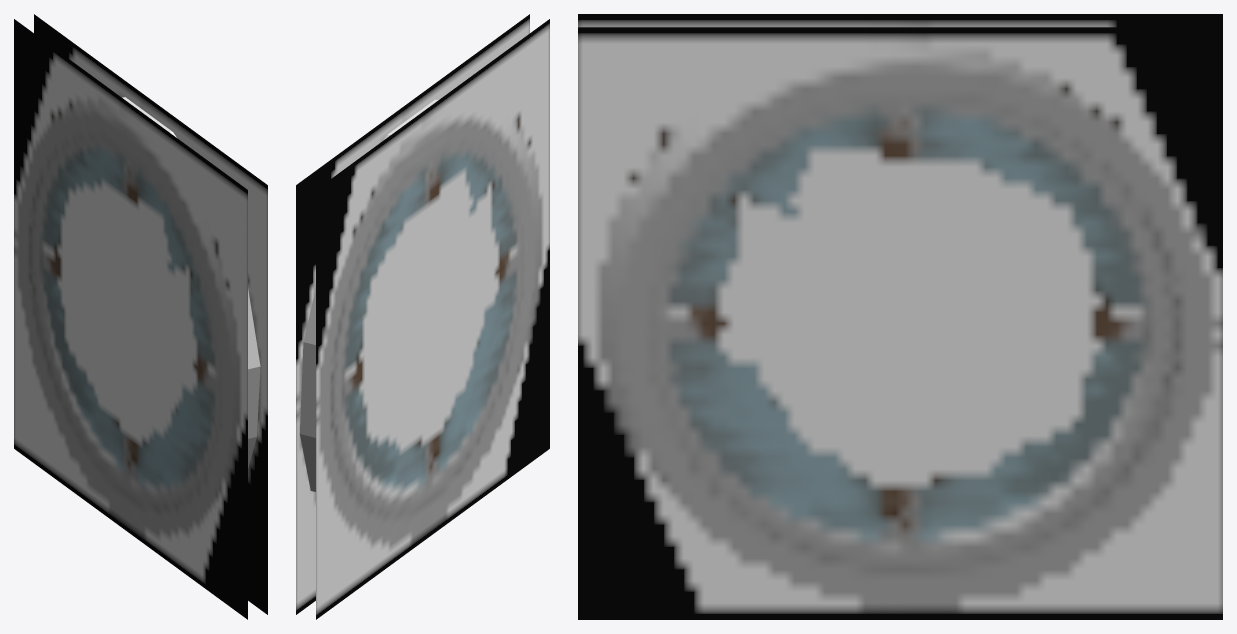
File: pz_native_fixtures_windows_white_86_frame.obj
3 renders of one model, left to right at view 1: azimuth 30°, elevation 25°; view 2: azimuth 150°, elevation 25°; view 3: azimuth 270°, elevation 25°, orthographic. The views are drawn at different scales.
Visible parts, largest first — view 1: pz_native_fixtures_windows_white_86_frame; view 2: pz_native_fixtures_windows_white_86_frame; view 3: pz_native_fixtures_windows_white_86_frame.
Part boxes in pixels (x1=…): pz_native_fixtures_windows_white_86_frame: x1=14, y1=14, x2=267, y2=619; pz_native_fixtures_windows_white_86_frame: x1=296, y1=14, x2=549, y2=619; pz_native_fixtures_windows_white_86_frame: x1=578, y1=14, x2=1222, y2=619.
Size of the model in its own units: 0.04 by 0.8281 by 0.8165.
1 material, 1 textured.
